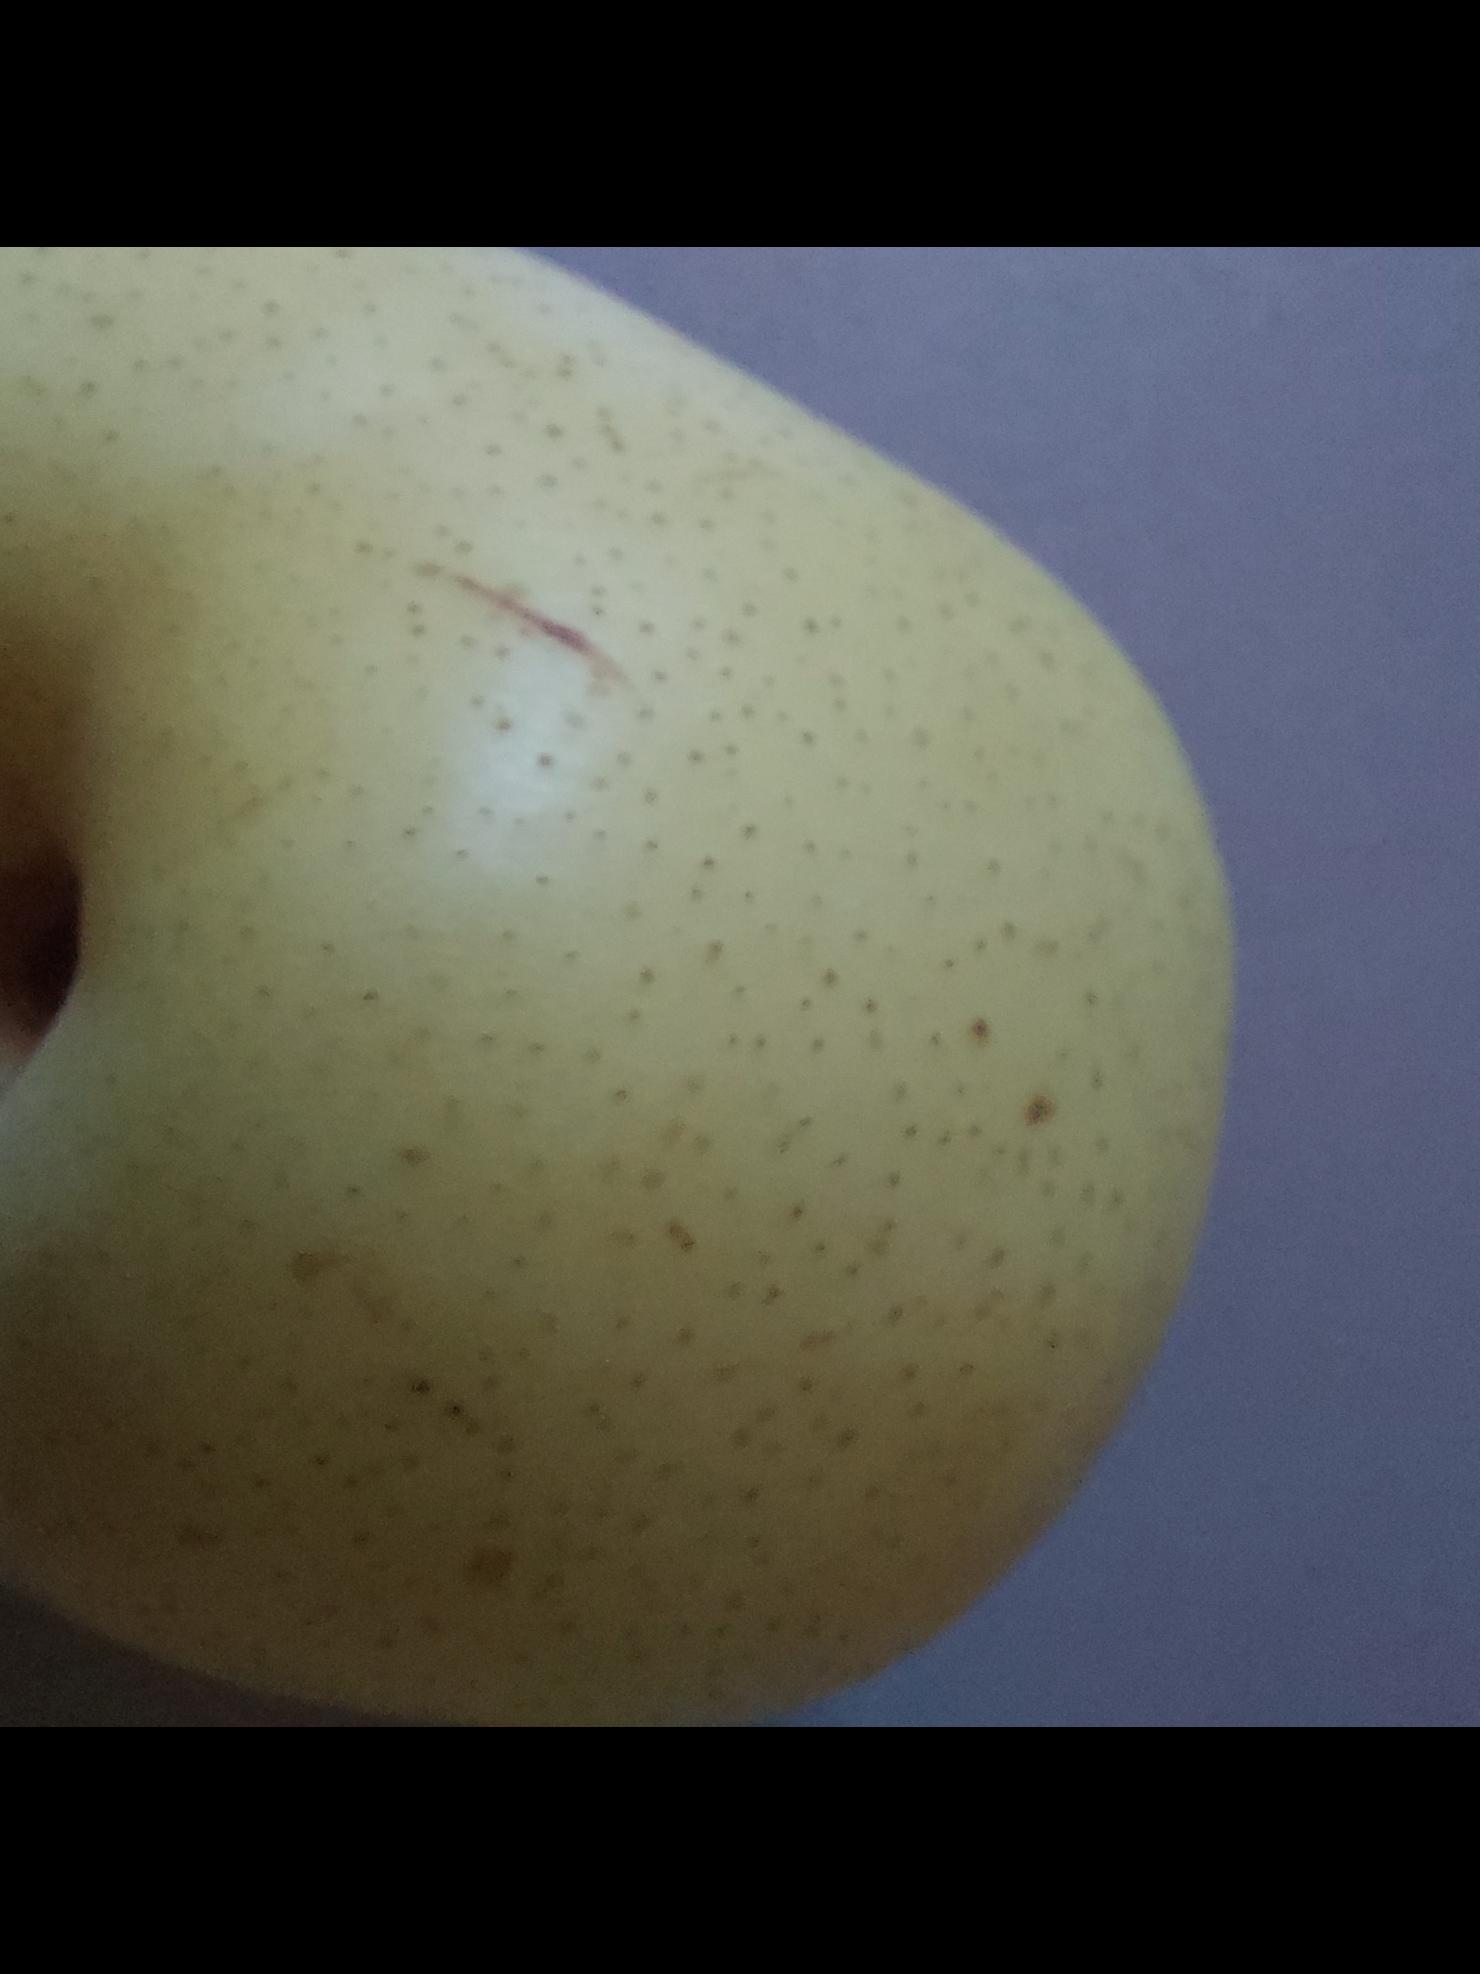Good Pear: (0, 247, 1283, 1727)
